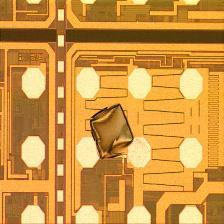PARTICLE: (88, 101, 139, 164)
